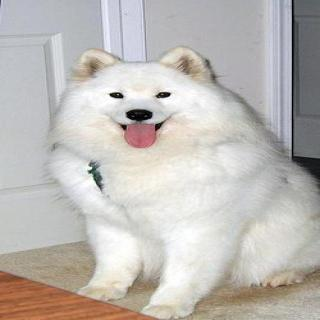dog: (63, 41, 240, 150)
nose: (124, 107, 154, 124)
